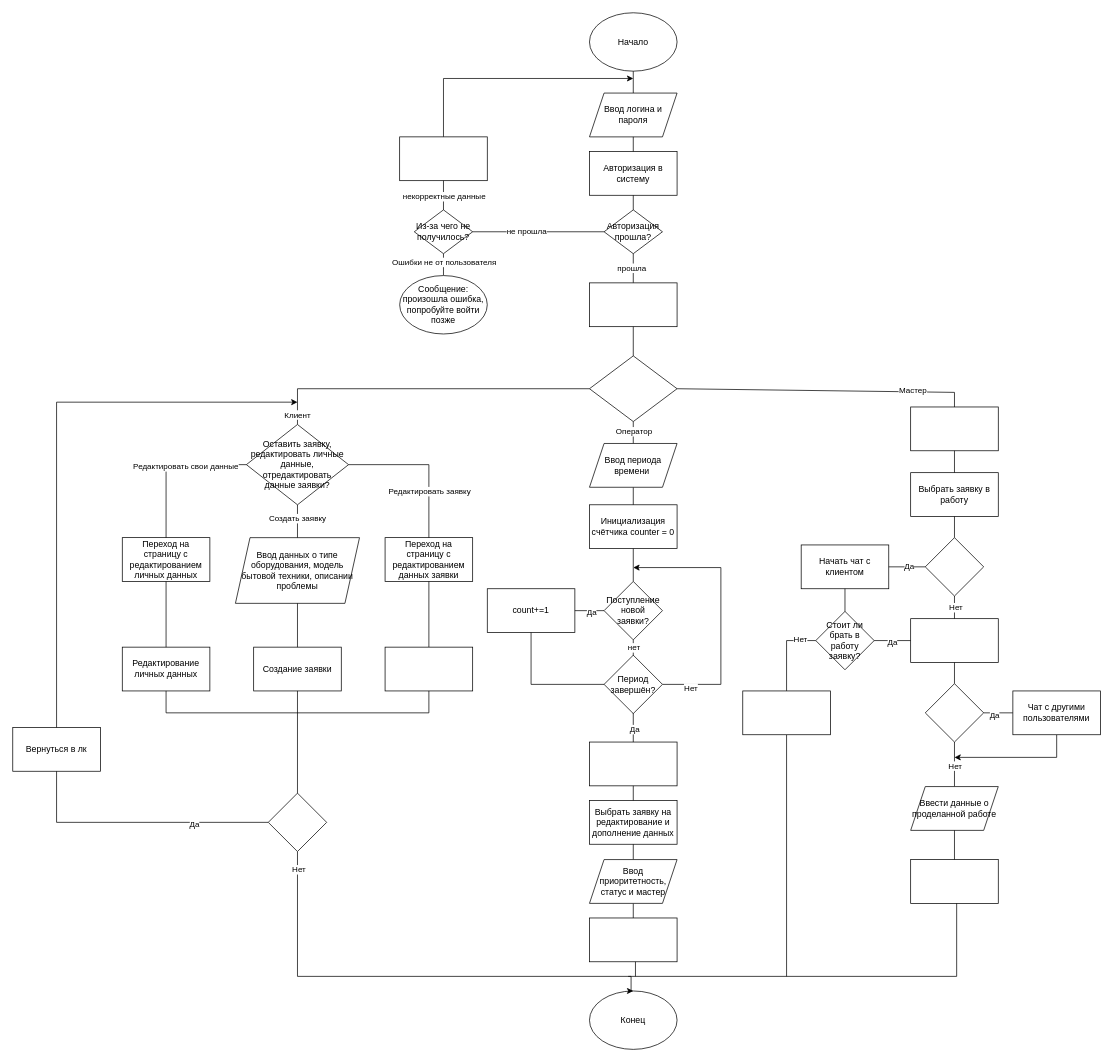
Image size: 1113x1062. Some labels were removed from this diagram. The centre of each missing label's shape, as x and y in pixels:
"В процессе работы нужно связаться с другими?" goes at (954,712).
"Возникают ли вопросы к клиенту?" goes at (954,566).
"Вход в личный кабинет" goes at (633,304).
"Вывести все заявки" goes at (954,428).
"Вывод результата, вывести заявки" goes at (633,763).
"Ещё какие-либо действия от пользователя?" goes at (297,822).
"Закончить работу над заявкой, составить отчет" goes at (954,881).
"Обратная связь клиенту и оператору" goes at (786,712).
"Передать в работу мастеру" goes at (633,939).
"пользователь является: клиентом, оператором или мастером?" goes at (633,388).
"Приступить к работе" goes at (954,640).
"Редактирование заявки" goes at (428,668).
"Сообщение: неправильный логин или пароль" goes at (443,158).
